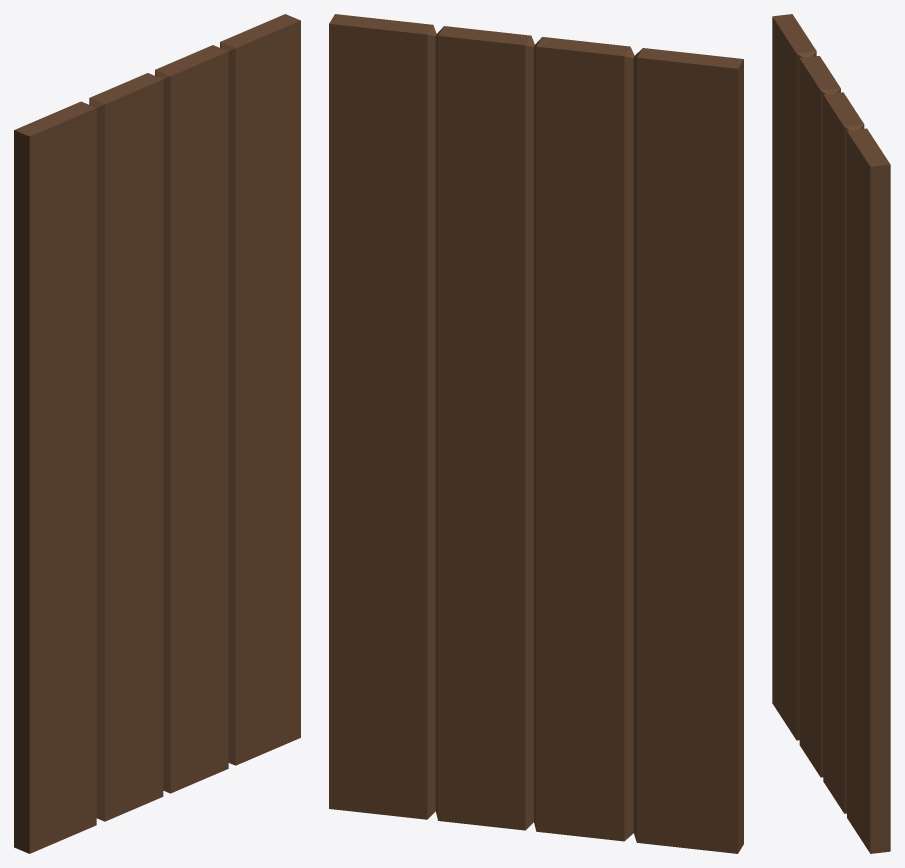
Rendered from windmill_1_door_mat.fbx.
The picture shows the model from 3 angles, left to right: view 1: azimuth 30°, elevation 25°; view 2: azimuth 150°, elevation 25°; view 3: azimuth 270°, elevation 25°; orthographic projection. The views are drawn at different scales.
Visible parts, largest first — view 1: windmill_1_door_mat; view 2: windmill_1_door_mat; view 3: windmill_1_door_mat.
Part boxes in pixels (x1=…): windmill_1_door_mat: x1=14, y1=14, x2=300, y2=853; windmill_1_door_mat: x1=329, y1=14, x2=743, y2=853; windmill_1_door_mat: x1=772, y1=14, x2=890, y2=853.
Bounding box in the file's own units: 46.88 × 98.15 × 15.31.
